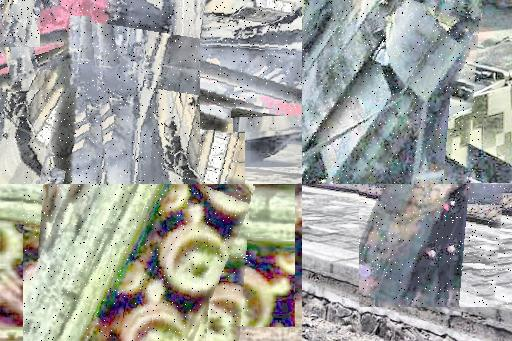tanks: (25, 185, 253, 341), (303, 1, 481, 185), (94, 1, 246, 185), (1, 37, 141, 185), (1, 1, 153, 90), (361, 185, 465, 307), (201, 35, 303, 85), (1, 1, 36, 47)
